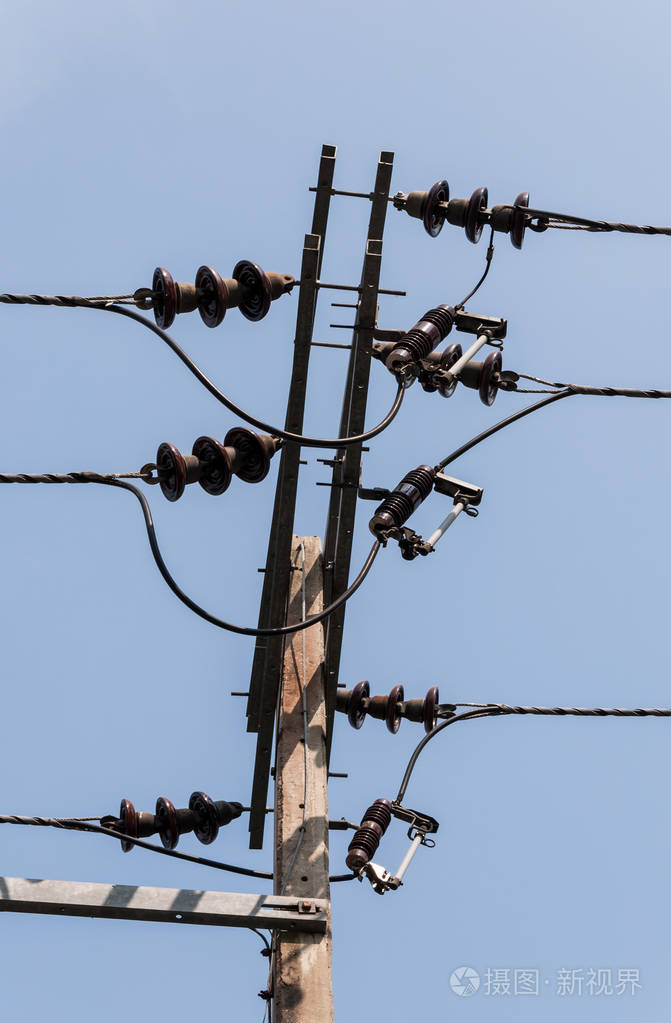insulator: (149, 257, 276, 329), (154, 425, 272, 500), (413, 178, 535, 248), (342, 678, 445, 739), (120, 787, 218, 850), (435, 339, 505, 410)
